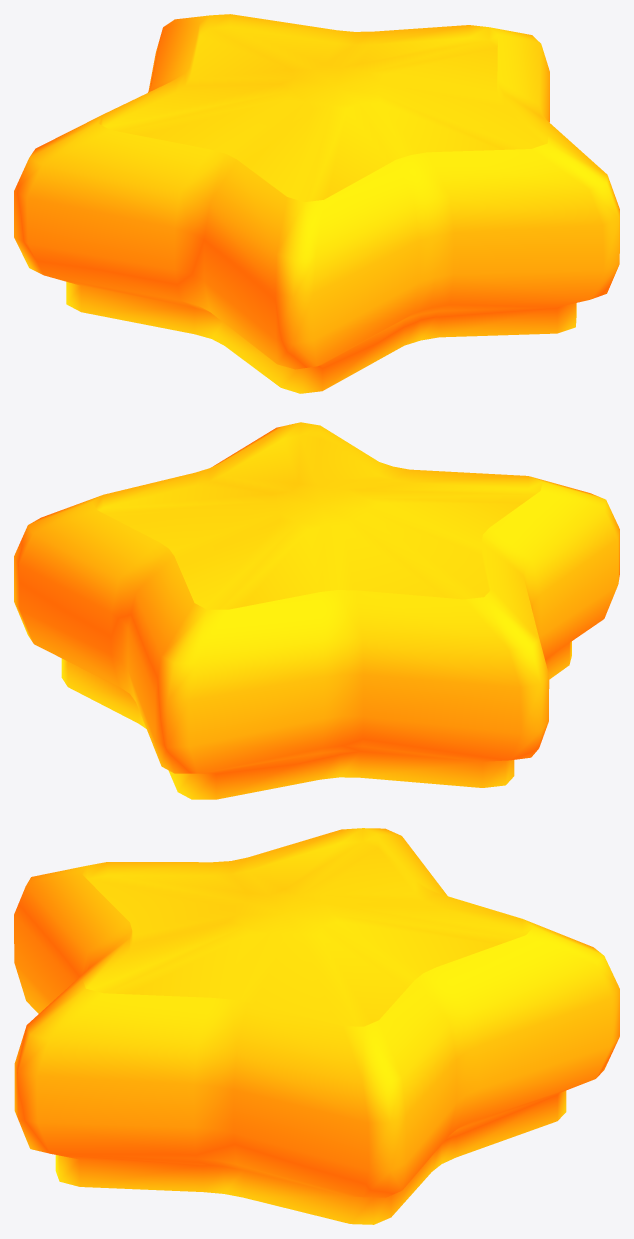
File: jump_collectible.glb
3 views of the same model, one above another, from view 1: azimuth 30°, elevation 25°; view 2: azimuth 150°, elevation 25°; view 3: azimuth 270°, elevation 25° (orthographic). The views are drawn at different scales.
Visible parts, largest first — view 1: pStar_Low; view 2: pStar_Low; view 3: pStar_Low.
Part boxes in pixels (bbox=[...]): pStar_Low: bbox=[14, 14, 619, 393]; pStar_Low: bbox=[14, 422, 619, 799]; pStar_Low: bbox=[14, 828, 619, 1224].
Bounding box in the file's own units: 1.82 × 0.6356 × 1.74.
